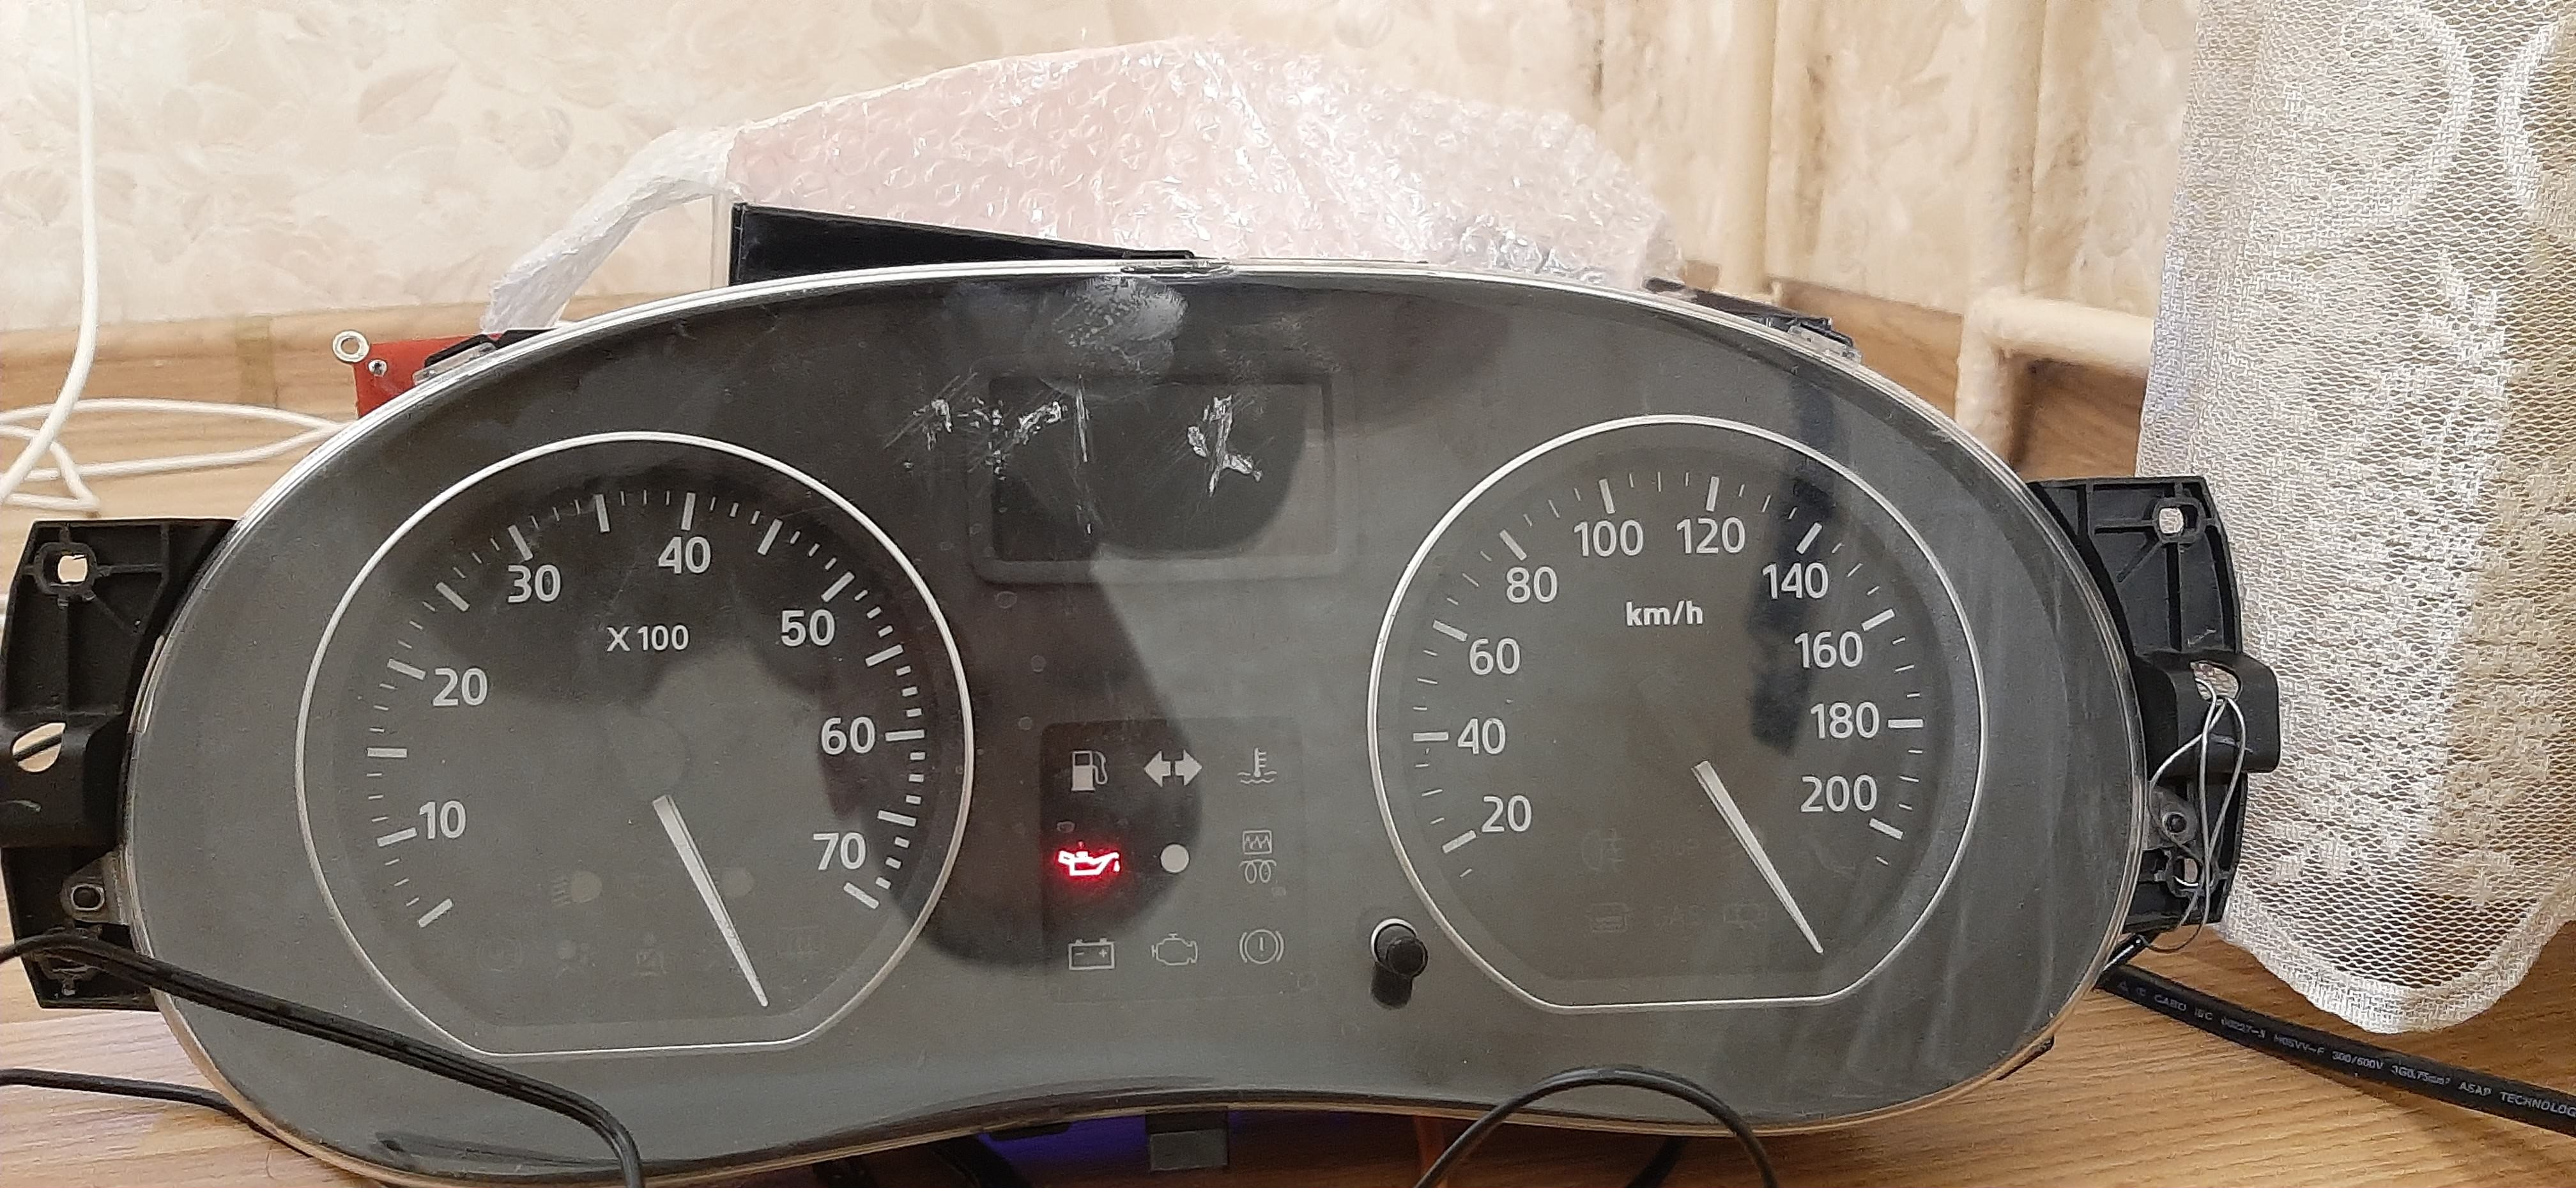oil6: (1055, 846, 1122, 877)
